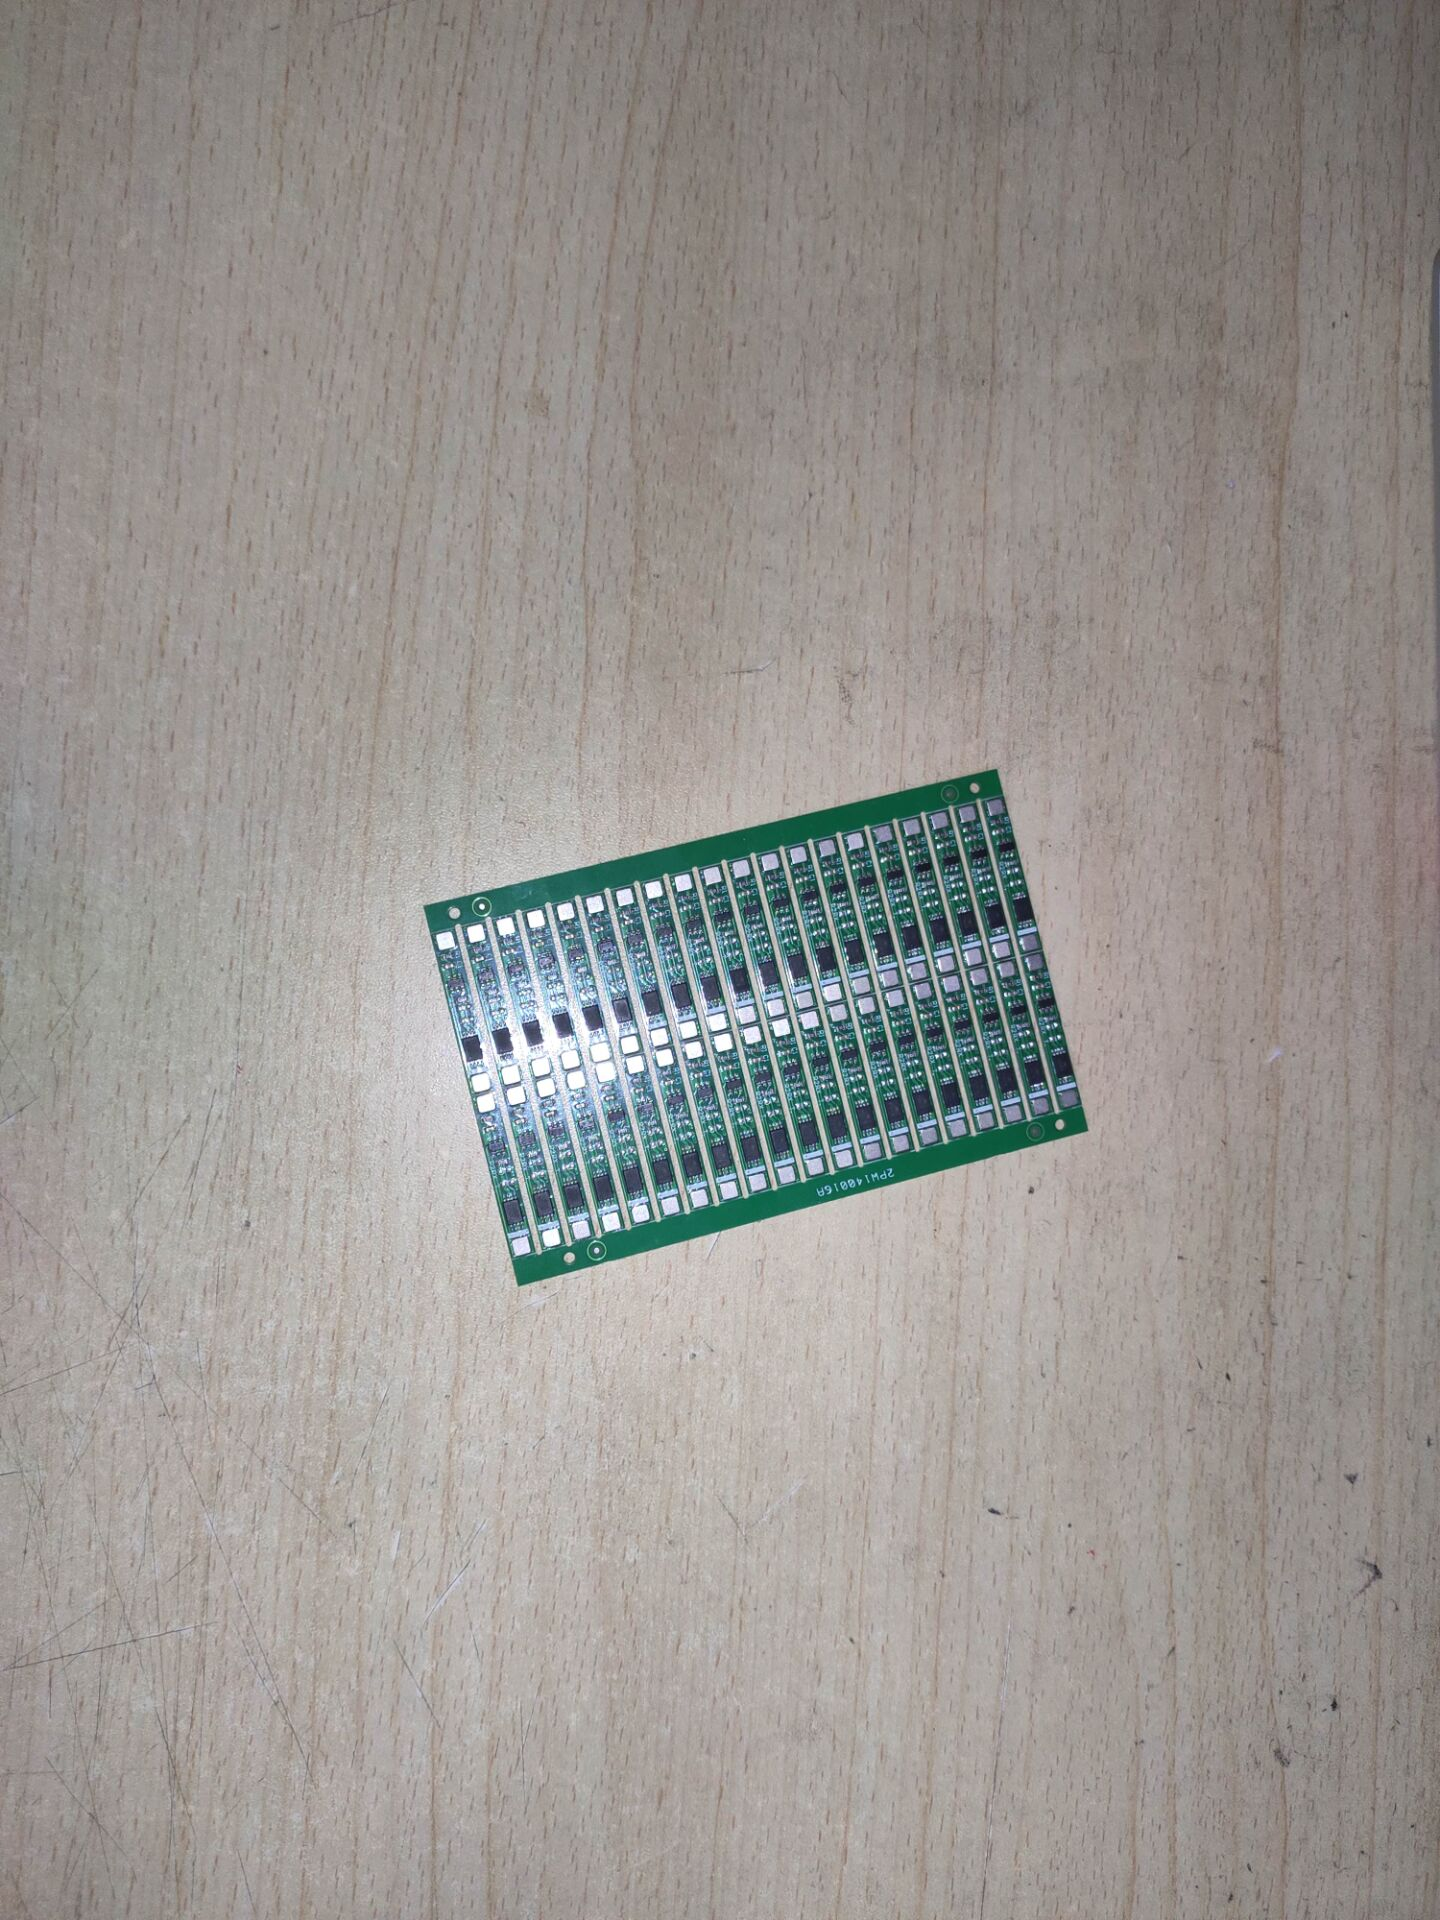point: (965, 966, 990, 987), (962, 947, 984, 967), (659, 1195, 681, 1215), (589, 1042, 611, 1062), (594, 1062, 619, 1080), (911, 981, 935, 1000), (890, 1134, 911, 1153), (570, 1221, 591, 1241), (466, 925, 488, 943), (990, 940, 1012, 959), (940, 975, 962, 993), (976, 1111, 998, 1129), (861, 1143, 883, 1161), (623, 1055, 647, 1072), (829, 1003, 848, 1022), (654, 1048, 674, 1066), (908, 961, 928, 980), (936, 955, 957, 973), (560, 1049, 580, 1068), (567, 1070, 587, 1088), (679, 1020, 697, 1040), (684, 1041, 704, 1060), (800, 1011, 820, 1030), (856, 995, 876, 1013), (1060, 1089, 1080, 1106), (949, 1120, 968, 1138), (919, 1126, 939, 1145), (835, 1151, 854, 1168), (777, 1164, 796, 1184), (720, 1180, 738, 1201), (601, 1214, 620, 1232), (474, 1095, 494, 1111), (619, 1036, 640, 1052), (1019, 933, 1040, 949), (511, 1236, 532, 1254), (556, 903, 575, 921), (539, 1080, 556, 1097), (650, 1027, 669, 1045), (742, 1027, 761, 1044), (886, 989, 905, 1007), (1026, 951, 1043, 969), (542, 1229, 560, 1247), (501, 1066, 521, 1083), (532, 1060, 552, 1076), (714, 1033, 731, 1052), (708, 1013, 728, 1030), (737, 1007, 756, 1023), (822, 984, 842, 1000), (995, 961, 1017, 977), (803, 1159, 825, 1175), (688, 1191, 709, 1207), (632, 1203, 648, 1224), (437, 932, 454, 949), (587, 896, 605, 913), (875, 825, 892, 842), (958, 806, 975, 822), (772, 1020, 789, 1037), (880, 971, 899, 987), (1031, 1097, 1050, 1114), (1004, 1104, 1023, 1121), (748, 1174, 767, 1192), (791, 846, 807, 863), (904, 820, 922, 835), (853, 975, 868, 993), (761, 855, 780, 870), (497, 920, 514, 936), (705, 869, 722, 884), (848, 833, 864, 850), (932, 814, 949, 828), (507, 1088, 524, 1104), (987, 799, 1006, 814), (676, 875, 692, 891), (473, 1074, 489, 1088), (768, 1000, 784, 1014), (528, 911, 544, 925), (734, 861, 750, 876), (796, 993, 813, 1007), (617, 890, 633, 904), (648, 883, 662, 897), (821, 841, 835, 856)
